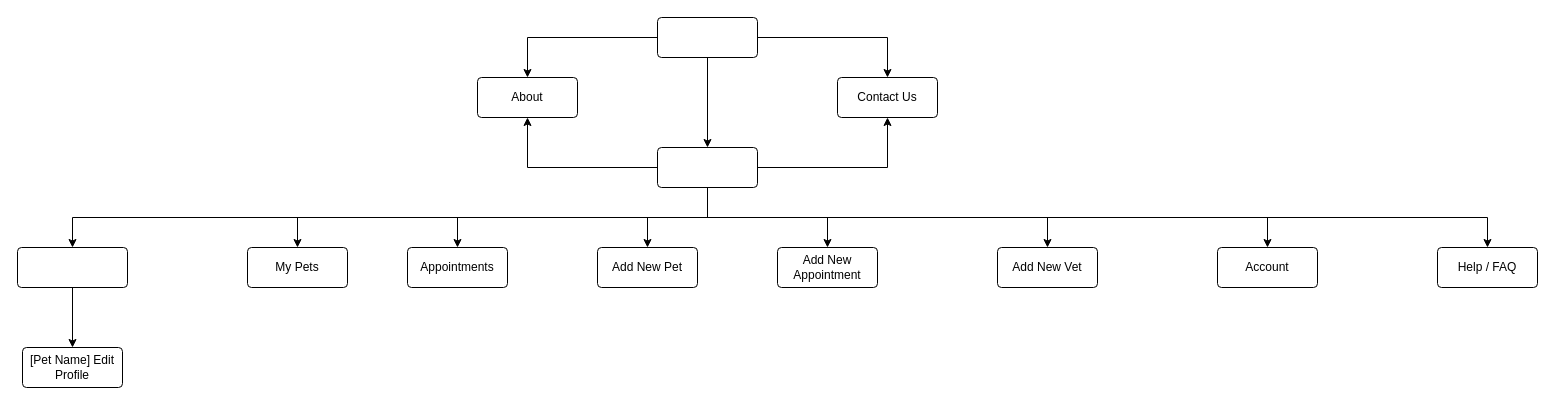
The diagram is 1555 pixels wide and 405 high, and some of its shapes have lost their labels. The centre of each missing label's shape, as x and y in pixels:
[Pet Name] Profile: the point at 72,267
Home: the point at 707,167
Login: the point at 707,37
